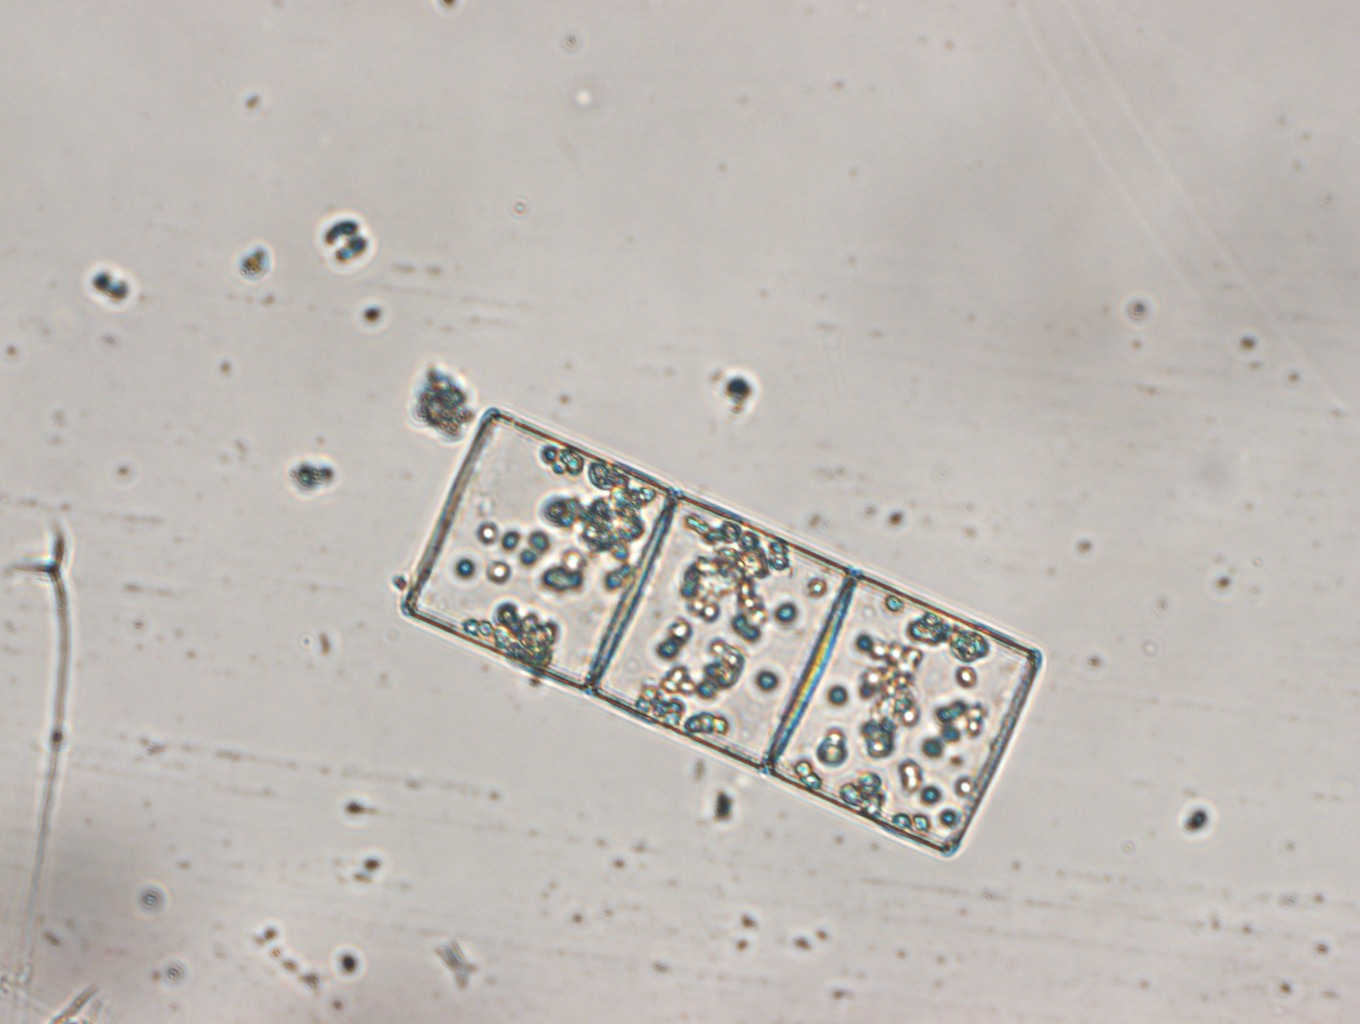guinardia flaccida: (398, 403, 1047, 868)
